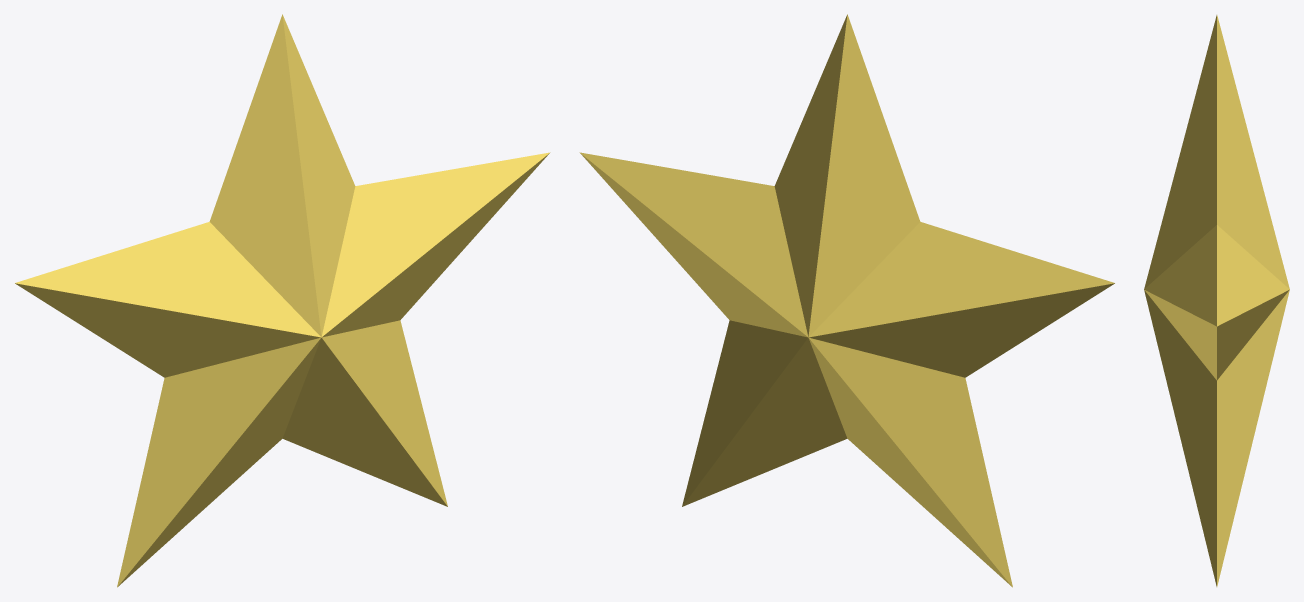
File: Star.fbx
The picture shows the model from 3 angles, left to right: view 1: azimuth 30°, elevation 25°; view 2: azimuth 150°, elevation 25°; view 3: azimuth 270°, elevation 25°; orthographic projection. The views are drawn at different scales.
Parts seen in each view (by area): view 1: Star; view 2: Star; view 3: Star.
Boxes of the visible parts, x1=… form: Star: x1=15, y1=14, x2=550, y2=587; Star: x1=579, y1=14, x2=1114, y2=587; Star: x1=1144, y1=15, x2=1289, y2=586.
Bounding box in the file's own units: 0.9511 × 0.9045 × 0.24.
